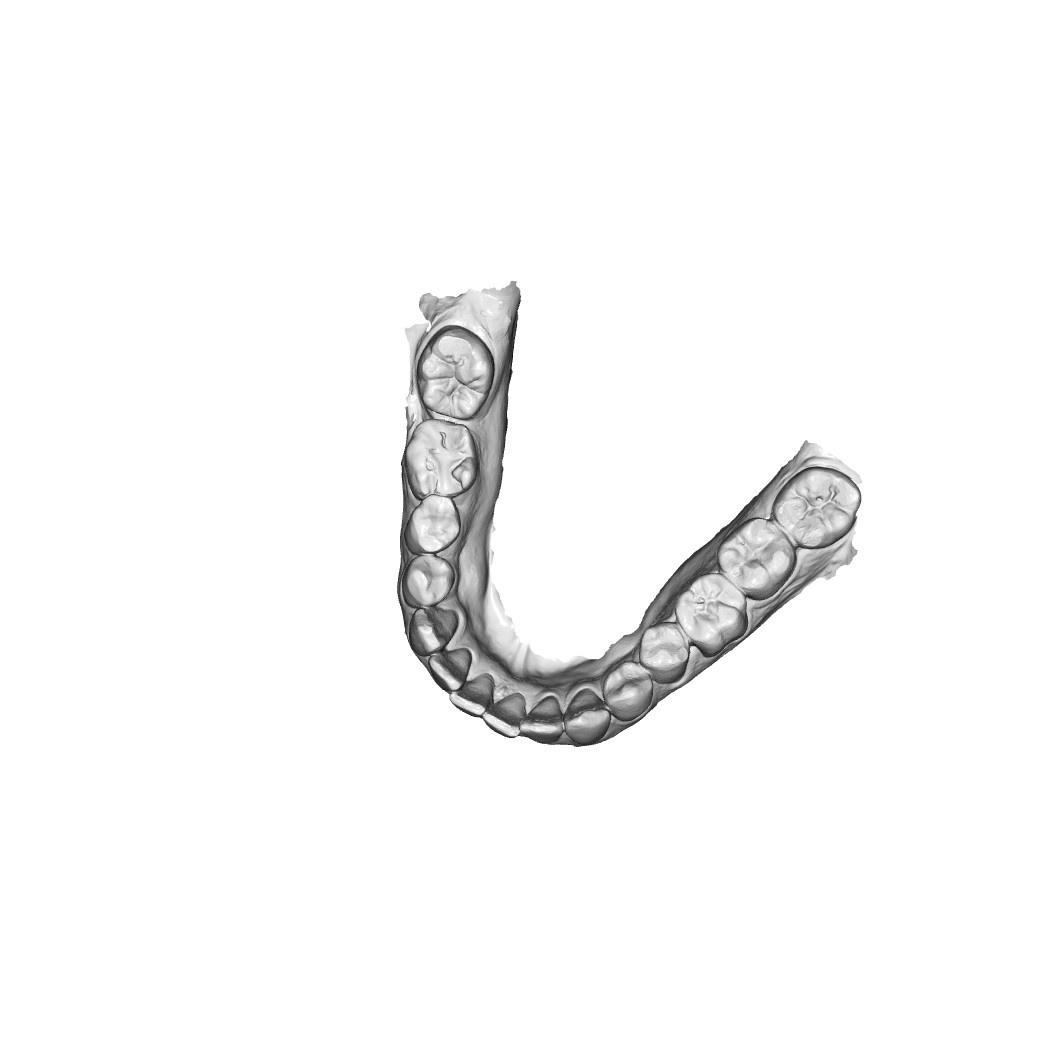canine: (564, 688, 612, 746), (404, 605, 458, 654)
incisor: (423, 643, 476, 696), (519, 693, 569, 746), (482, 694, 531, 742), (446, 675, 495, 721)
molar: (413, 324, 495, 420), (775, 457, 859, 543), (401, 415, 476, 498), (719, 520, 794, 596), (676, 573, 749, 651)
premolar: (404, 494, 463, 560), (403, 552, 457, 610), (606, 660, 656, 721), (642, 623, 689, 681)
